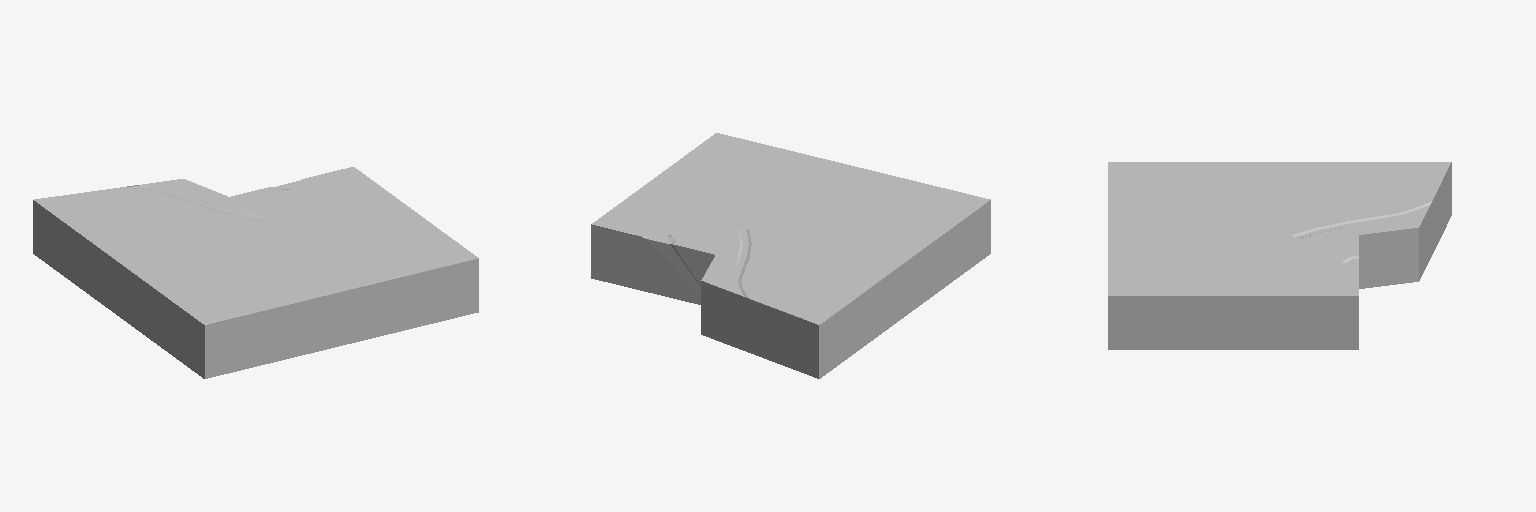
File: floor.obj
3 renders of one model, left to right at view 1: azimuth 30°, elevation 25°; view 2: azimuth 150°, elevation 25°; view 3: azimuth 270°, elevation 25°, orthographic.
Parts seen in each view (by area): view 1: Floor3; view 2: Floor3; view 3: Floor3.
Part boxes in pixels (x1,y1,x2,y2): Floor3: (33, 167, 478, 378); Floor3: (591, 133, 990, 378); Floor3: (1108, 162, 1451, 349).
Size of the model in its own units: 178 by 33.61 by 193.